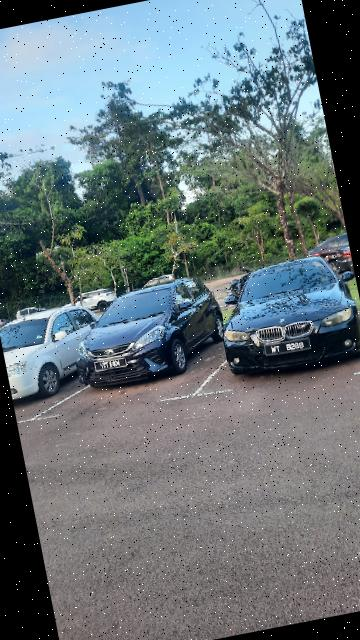License_Plate: (262, 336, 314, 361), (91, 355, 129, 376)
car: (205, 246, 360, 388), (67, 271, 232, 398), (1, 296, 115, 403)
